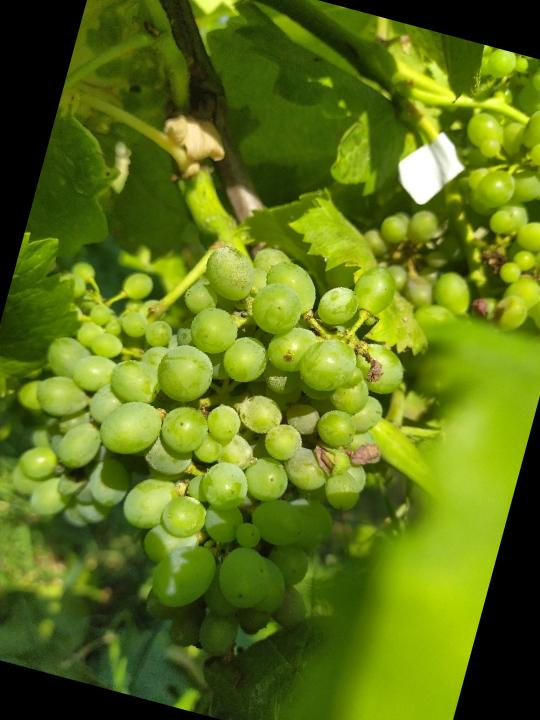grape: (0, 182, 434, 690)
